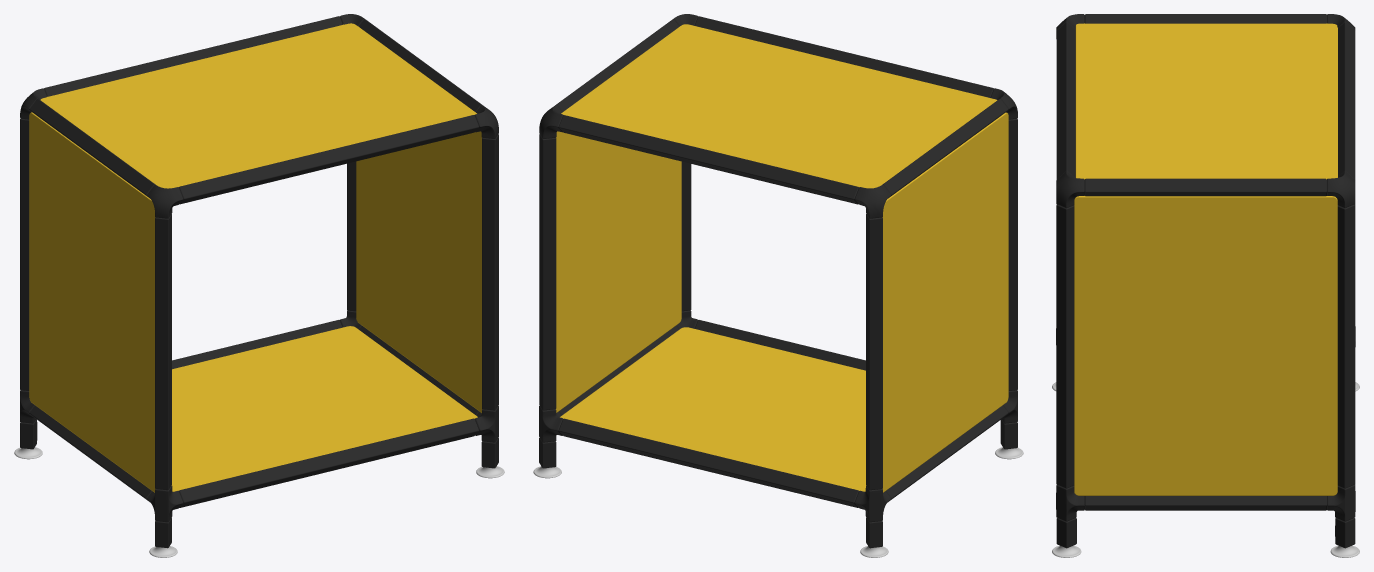
3 views of the same model, side by side, from view 1: azimuth 30°, elevation 25°; view 2: azimuth 150°, elevation 25°; view 3: azimuth 270°, elevation 25° (orthographic). The views are drawn at different scales.
Visible parts, largest first — view 1: 479x329x420; view 2: 479x329x420; view 3: 479x329x420.
Boxes of the visible parts, bbox=[...] form: 479x329x420: bbox=[14, 14, 504, 557]; 479x329x420: bbox=[533, 14, 1023, 557]; 479x329x420: bbox=[1052, 14, 1359, 557].
Size of the model in its own units: 0.5689 by 0.5593 by 0.4182.
